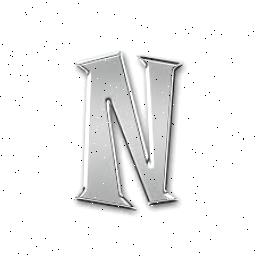n: (72, 44, 186, 216)
